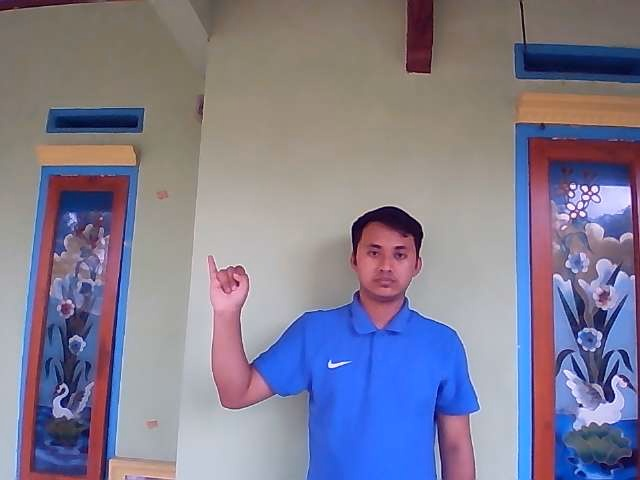I: (206, 253, 251, 312)
